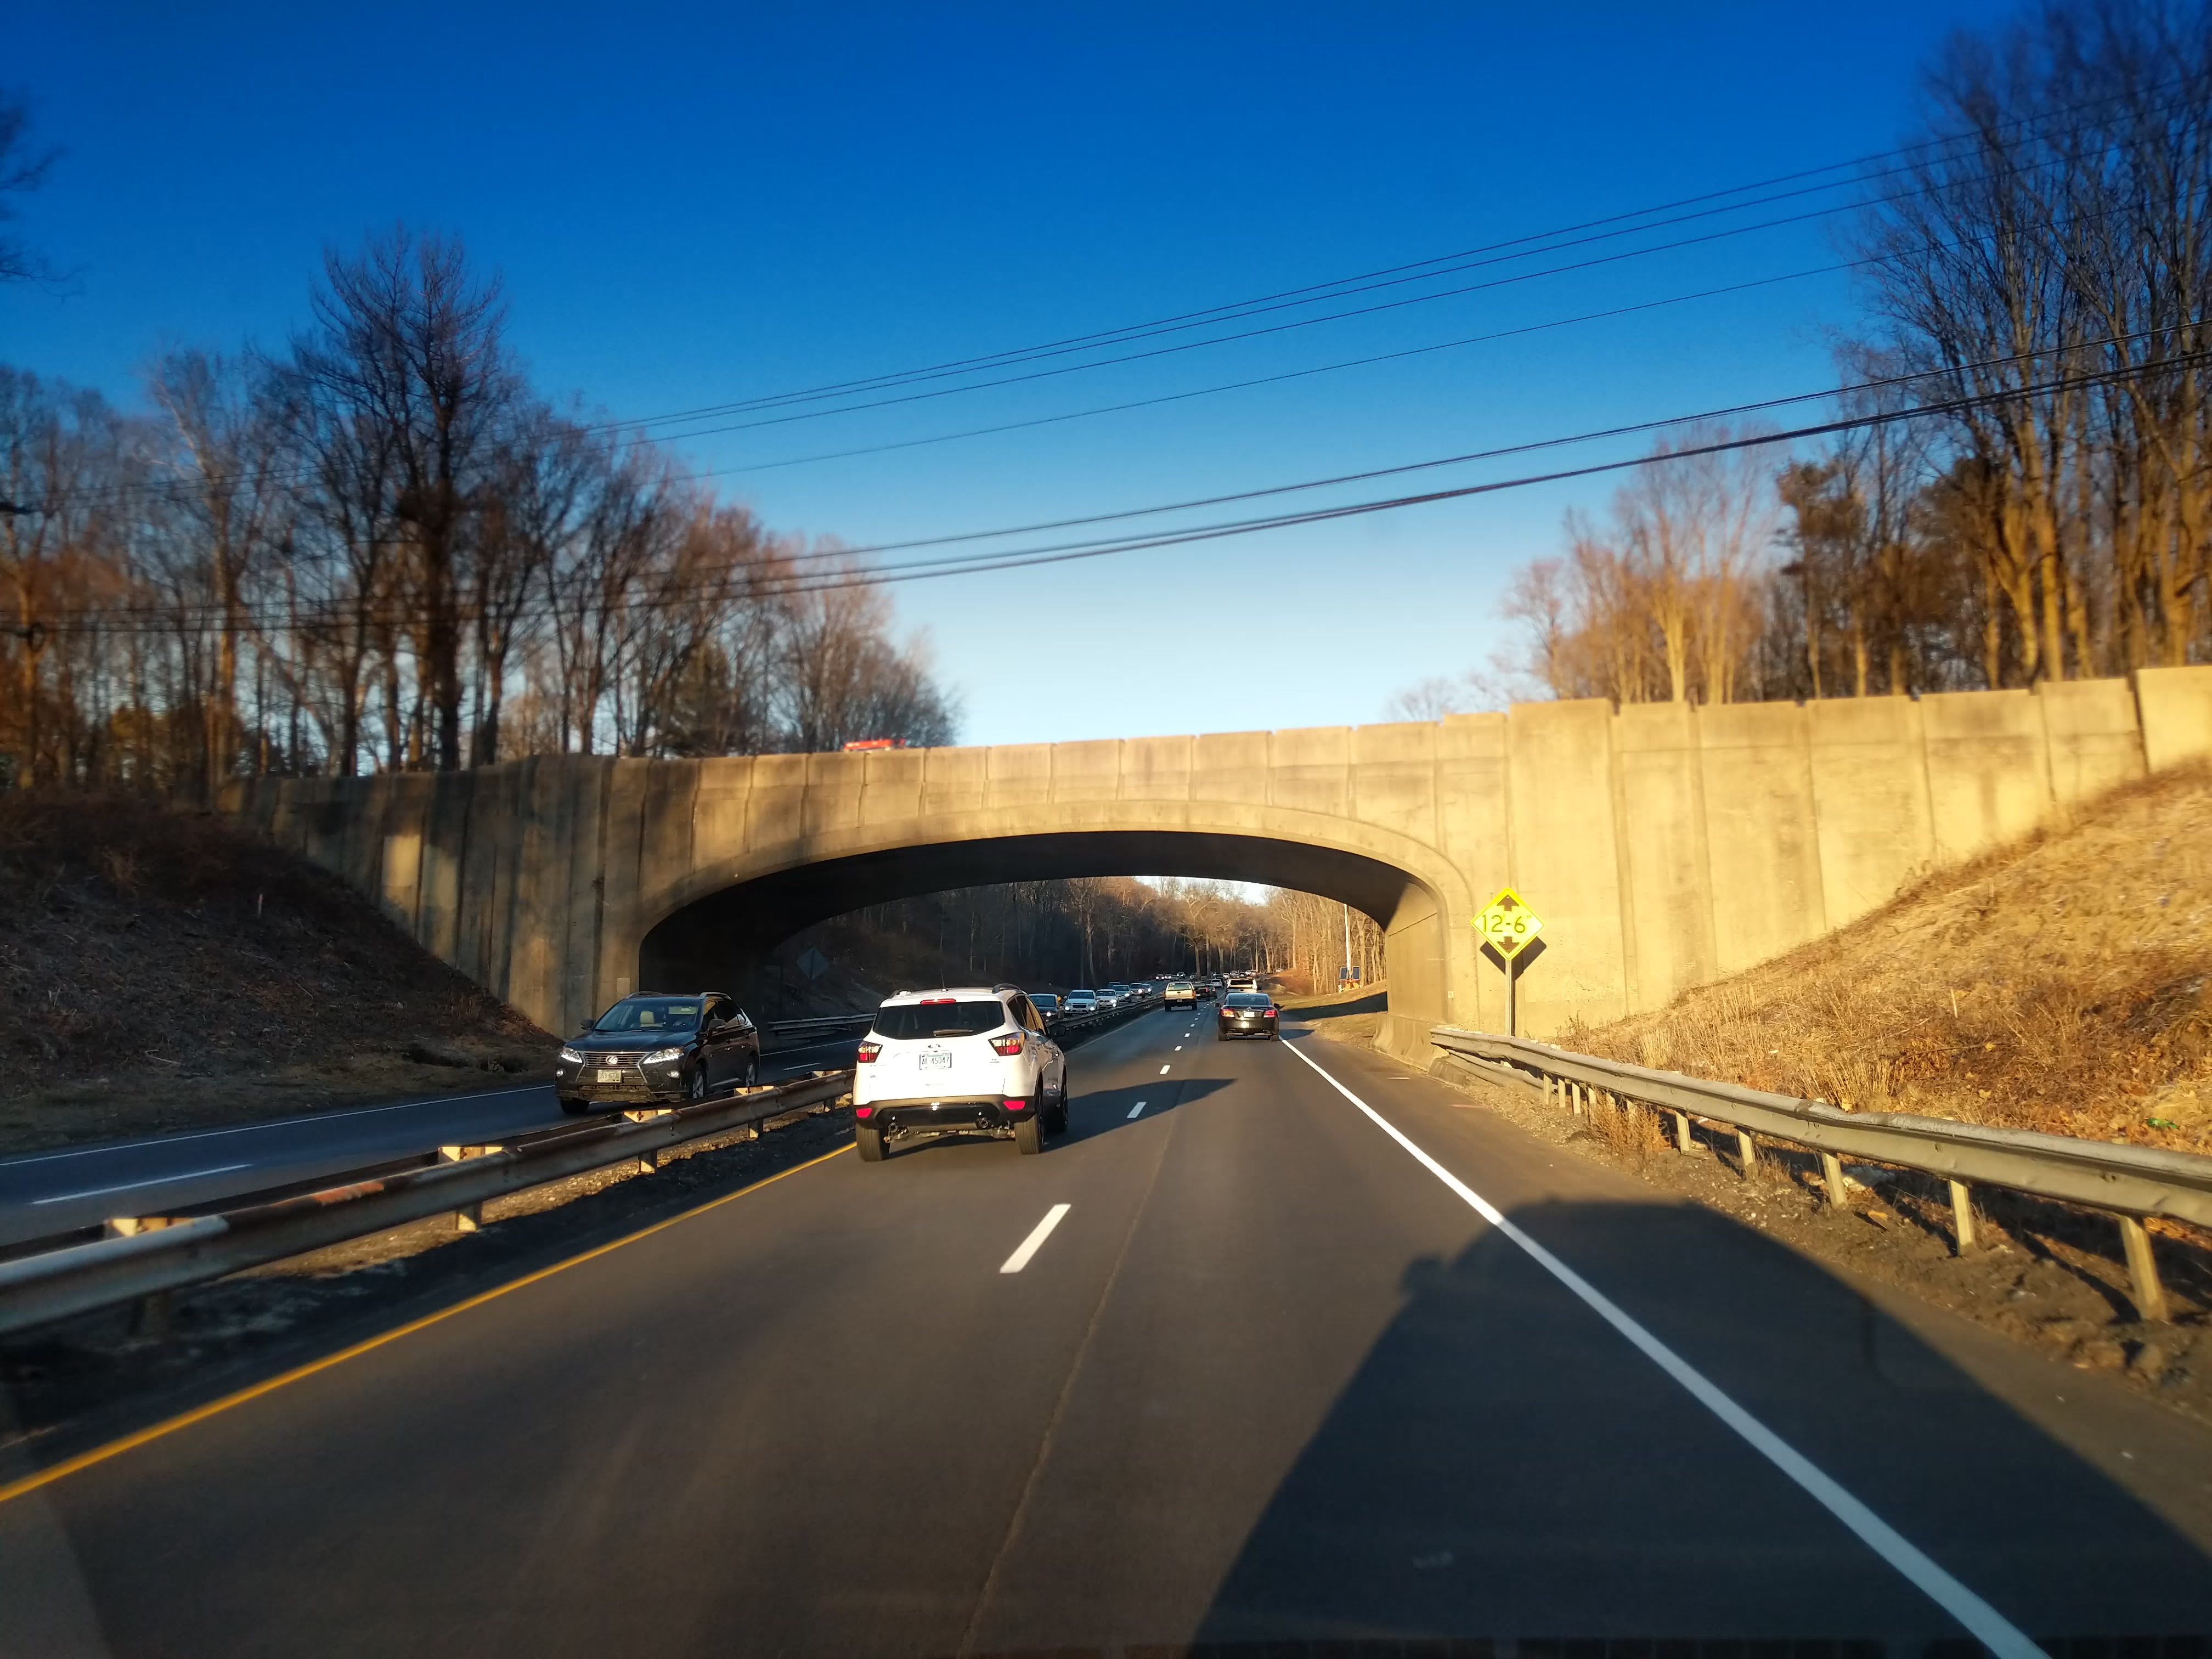low-clearance-sign: (1470, 887, 1545, 962)
